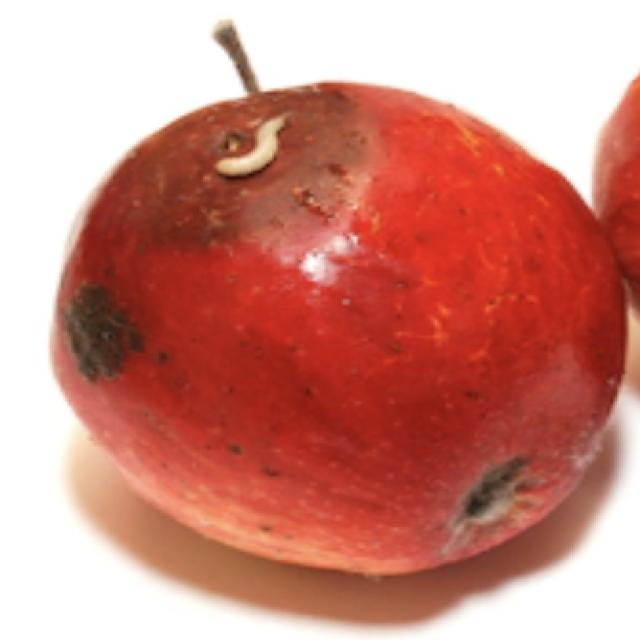rotten_apple: (44, 42, 608, 576)
